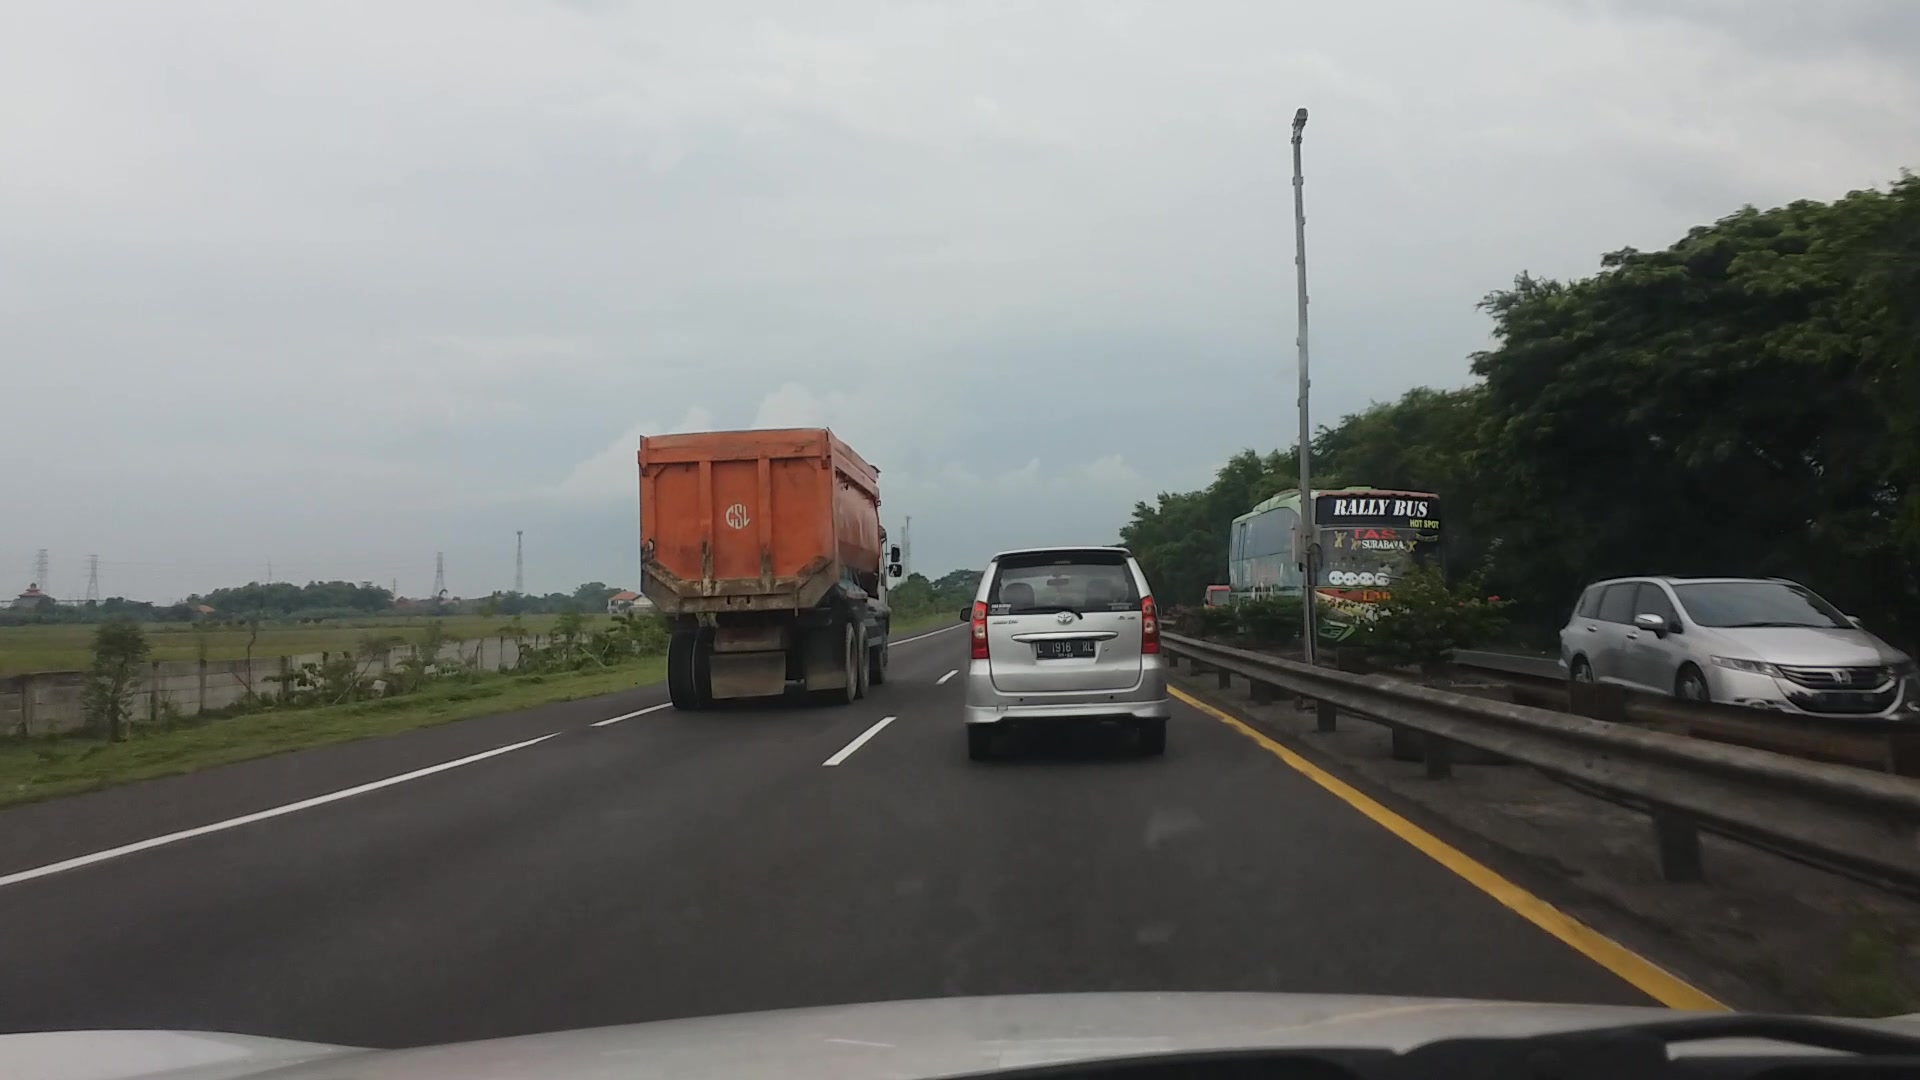plate_positive: (1036, 638, 1095, 659)
